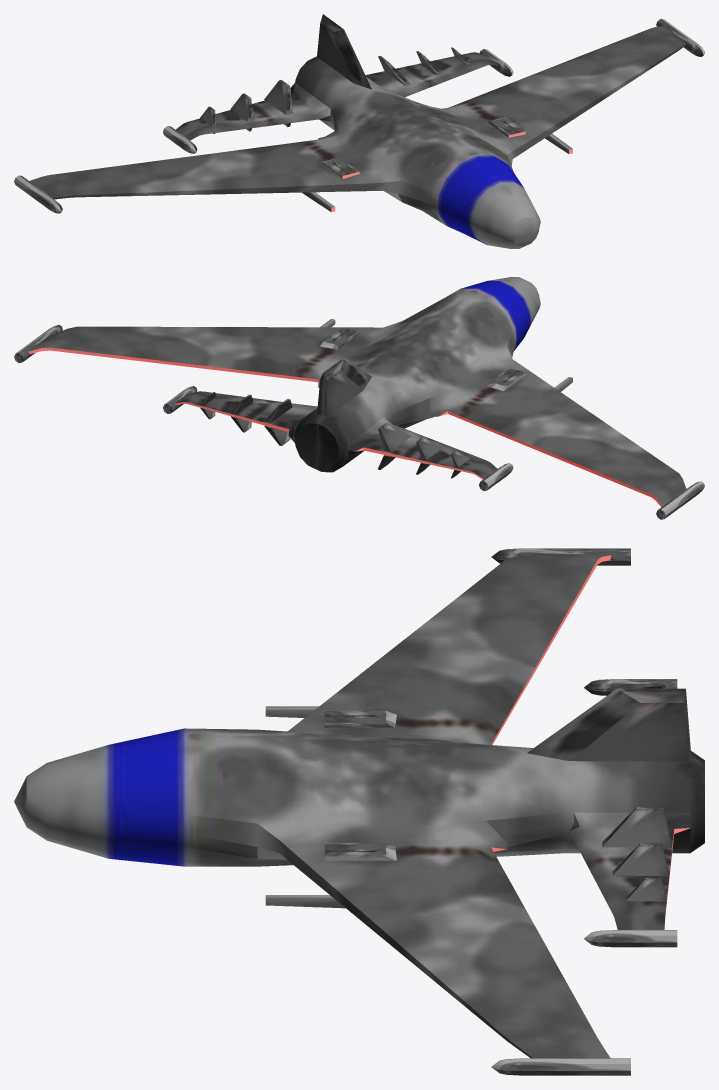
Rendered from Spaceship2.glb.
The picture shows the model from 3 angles, top to bottom: view 1: azimuth 30°, elevation 25°; view 2: azimuth 150°, elevation 25°; view 3: azimuth 270°, elevation 25°; orthographic projection. The views are drawn at different scales.
Visible parts, largest first — view 1: Spaceship; view 2: Spaceship; view 3: Spaceship.
Boxes of the visible parts, x1,y1,x2,y2 form: Spaceship: (14,14,704,248); Spaceship: (14,277,704,519); Spaceship: (14,548,704,1075).
Size of the model in its own units: 15.6 by 2.4 by 8.8.
1 material, 1 textured.
